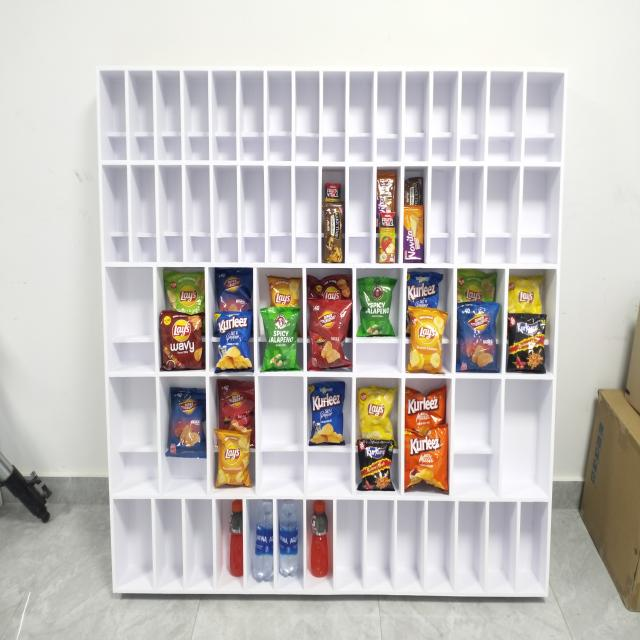Plastic: (405, 426, 450, 492), (458, 304, 501, 372), (310, 300, 350, 371), (260, 306, 301, 372), (169, 386, 206, 457), (408, 307, 446, 372), (160, 313, 203, 370), (308, 381, 345, 443), (357, 278, 394, 336), (509, 315, 546, 373), (358, 385, 396, 438), (216, 313, 250, 372), (217, 378, 254, 432), (358, 441, 396, 491), (217, 432, 250, 487), (278, 498, 300, 576), (406, 386, 446, 428), (164, 271, 203, 313), (216, 269, 254, 311), (508, 274, 544, 316), (255, 500, 272, 582), (458, 269, 498, 301), (408, 272, 443, 308), (312, 501, 328, 577), (230, 501, 245, 578), (323, 208, 343, 264), (306, 274, 352, 298), (268, 274, 301, 306), (405, 208, 423, 262), (378, 212, 394, 262), (378, 170, 396, 210), (404, 177, 424, 208), (326, 182, 341, 204)
